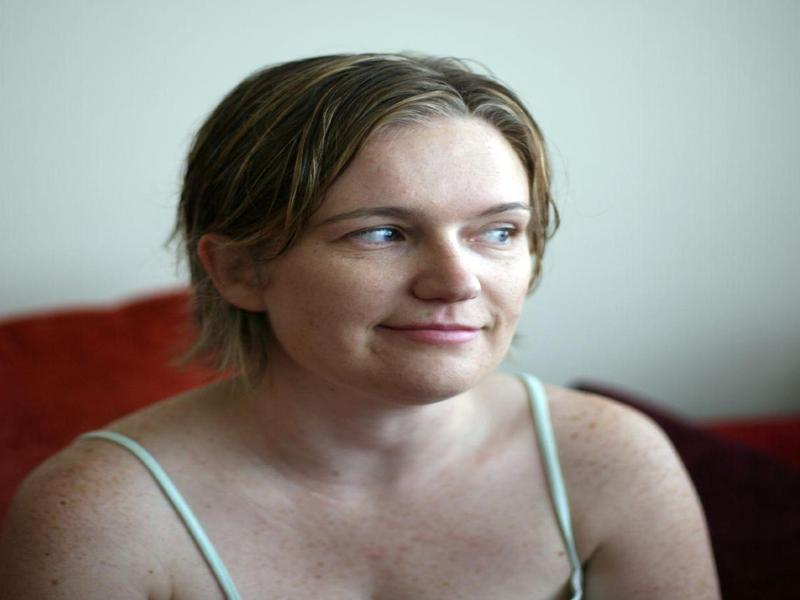person: (7, 43, 717, 600)
